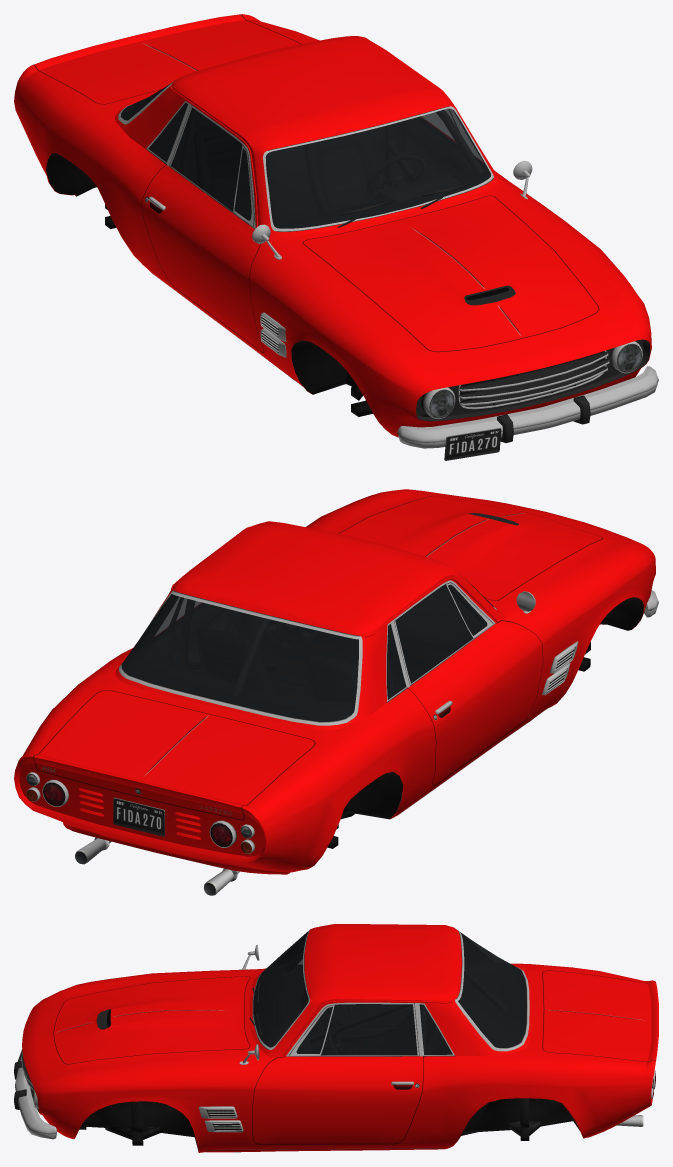
The model's file is sanremo.glb.
The picture shows the model from 3 angles, top to bottom: view 1: azimuth 30°, elevation 25°; view 2: azimuth 150°, elevation 25°; view 3: azimuth 270°, elevation 25°; orthographic projection. The views are drawn at different scales.
Visible parts, largest first — view 1: part4, part2, part1, part0, part3, part7, part9; view 2: part4, part2, part0, part1, part3, part7, part5; view 3: part4, part2, part1, part0, part3.
Part boxes in pixels (<box>): part4: <box>14,14,651,436</box>; part2: <box>121,83,641,417</box>; part1: <box>46,80,658,448</box>; part0: <box>121,98,490,231</box>; part3: <box>33,14,599,386</box>; part7: <box>444,428,501,460</box>; part9: <box>430,344,641,416</box>; part4: <box>14,489,655,874</box>; part2: <box>121,579,494,721</box>; part0: <box>122,587,486,791</box>; part1: <box>26,513,658,895</box>; part3: <box>33,496,602,820</box>; part7: <box>113,797,164,836</box>; part5: <box>43,782,232,846</box>; part4: <box>22,924,658,1152</box>; part2: <box>32,931,526,1104</box>; part1: <box>14,930,654,1152</box>; part0: <box>254,933,526,1054</box>; part3: <box>53,970,655,1150</box>.
Bounding box in the file's own units: 1.71 × 1.11 × 4.18.
10 materials, 9 textured.
